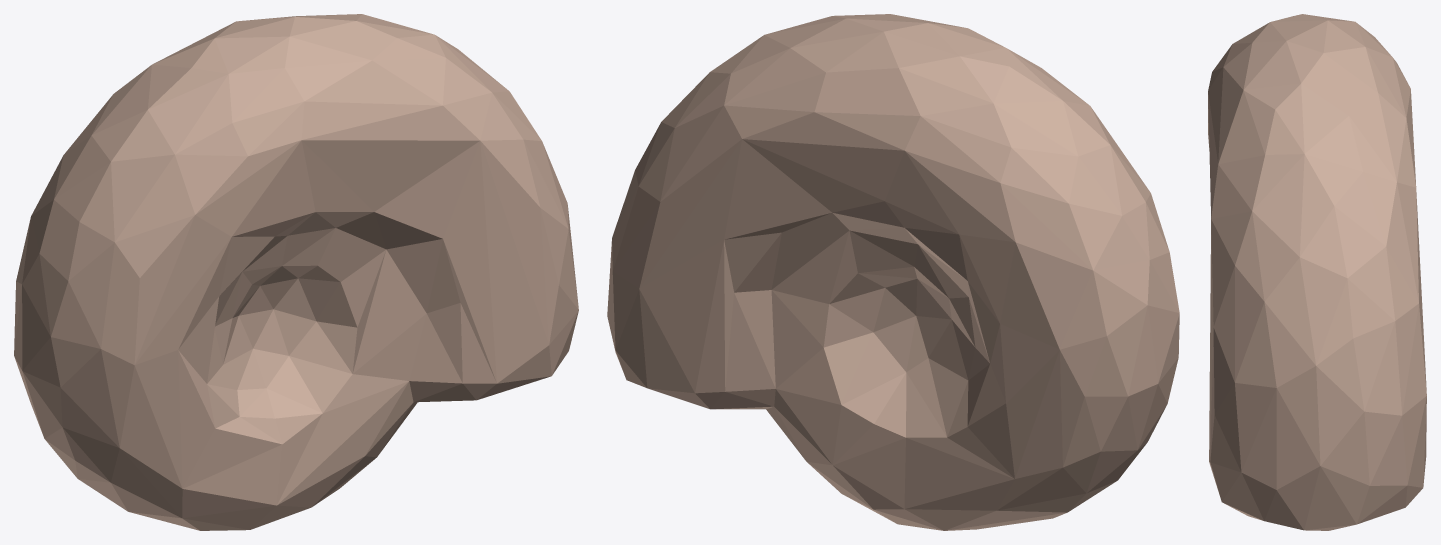
File: SM_LP_Fossil_3.fbx
The picture shows the model from 3 angles, left to right: view 1: azimuth 30°, elevation 25°; view 2: azimuth 150°, elevation 25°; view 3: azimuth 270°, elevation 25°; orthographic projection. The views are drawn at different scales.
Parts seen in each view (by area): view 1: SM_LP_Fossil_3; view 2: SM_LP_Fossil_3; view 3: SM_LP_Fossil_3.
Part boxes in pixels (box(x1,y1,x2,y2)): SM_LP_Fossil_3: box(14, 14, 578, 530); SM_LP_Fossil_3: box(607, 14, 1179, 530); SM_LP_Fossil_3: box(1208, 14, 1426, 530).
Size of the model in its own units: 0.4202 by 0.3609 by 0.1545.
